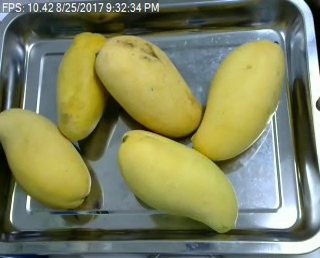Mango: (117, 129, 238, 233), (191, 39, 286, 159), (94, 34, 201, 136), (0, 108, 90, 207), (56, 32, 111, 140)
